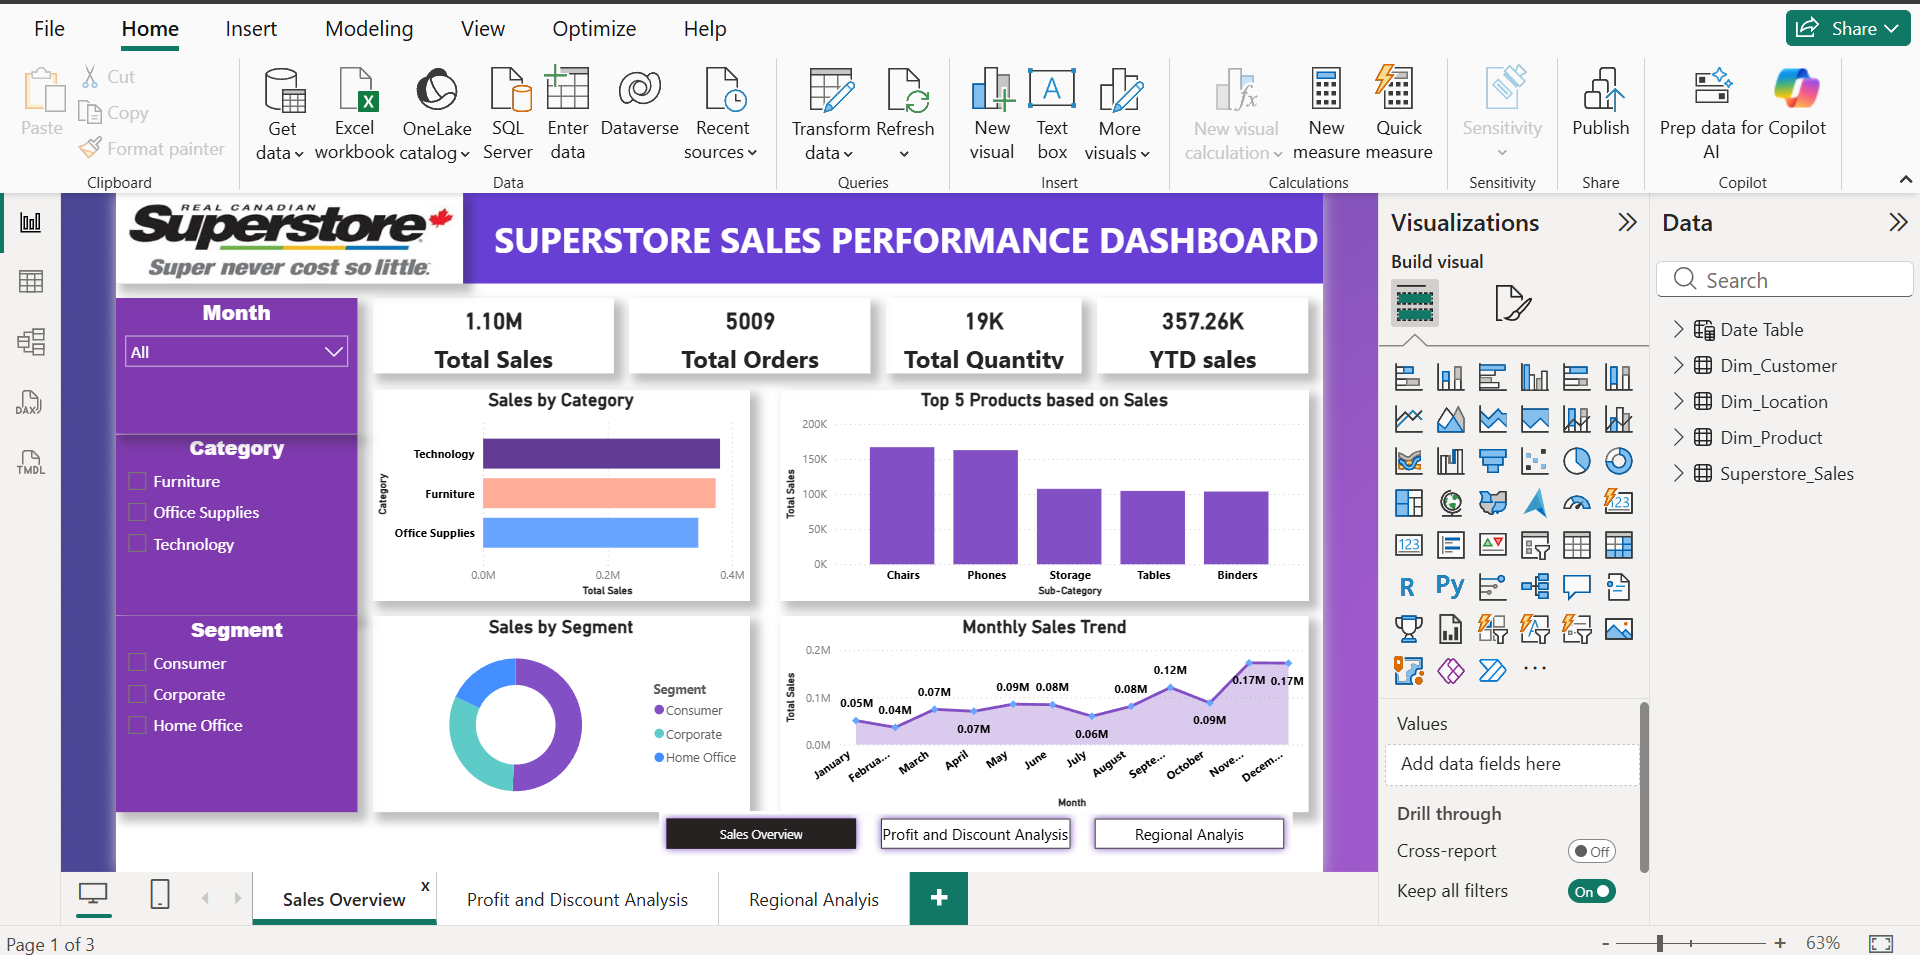

The page's visual inventory and layout, read from the dashboard file:
{"tool":"powerbi","page":{"name":"Sales Overview","canvas":[1280,720],"ordinal":0},"visuals":[{"type":"textbox","box":[0,0,1280,96],"z":0},{"type":"card","fields":{"Values":["SuperStore_Sales.Total Sales"]},"box":[272,112,256,80],"z":1000},{"type":"card","fields":{"Values":["SuperStore_Sales.Total Quantity"]},"box":[816,112,208,80],"z":2000},{"type":"barChart","title":"Sales by Category","fields":{"Y":["SuperStore_Sales.Total Sales"],"Category":["SuperStore_Sales.Category"]},"box":[272,208,400,224],"z":3000},{"type":"columnChart","title":"Top 5 Products based on Sales","fields":{"Category":["SuperStore_Sales.Sub-Category"],"Y":["SuperStore_Sales.Total Sales"]},"box":[704,208,560,224],"z":4000},{"type":"lineChart","title":" Monthly Sales Trend","fields":{"Y":["SuperStore_Sales.Total Sales"],"Category":["Date Table.Date.Variation.Date Hierarchy.Month1"]},"box":[704,448,560,208],"z":5000},{"type":"donutChart","title":"Sales by Segment","fields":{"Category":["SuperStore_Sales.Segment"],"Y":["SuperStore_Sales.Total Sales"]},"box":[272,448,400,208],"z":6000},{"type":"slicer","title":"Category","fields":{"Values":["SuperStore_Sales.Category"]},"box":[0,256,256,192],"z":7000},{"type":"slicer","title":"Month","fields":{"Values":["Date Table.MONTH"]},"box":[0,112,256,144],"z":8000},{"type":"pageNavigator","box":[576,656,672,48],"z":9000},{"type":"card","fields":{"Values":["SuperStore_Sales.YTD sales"]},"box":[1040,112,224,80],"z":10000},{"type":"image","box":[0,0,368,96],"z":11000},{"type":"slicer","title":"Segment","fields":{"Values":["SuperStore_Sales.Segment"]},"box":[0,448,256,208],"z":12000},{"type":"card","fields":{"Values":["SuperStore_Sales.Total Orders"]},"box":[544,112,256,80],"z":13000}]}

Visuals, with their boxes on the page's 1280x720 design canvas (x1, y1, x2, y2). These are canvas units, not pixel positions in the 1920x955 screenshot, which may show the page scaled, cropped or inside an application window:
textbox: bbox=(0, 0, 1280, 96)
card - SuperStore_Sales.Total Sales: bbox=(272, 112, 528, 192)
card - SuperStore_Sales.Total Quantity: bbox=(816, 112, 1024, 192)
"Sales by Category" barChart: bbox=(272, 208, 672, 432)
"Top 5 Products based on Sales" columnChart: bbox=(704, 208, 1264, 432)
" Monthly Sales Trend" lineChart: bbox=(704, 448, 1264, 656)
"Sales by Segment" donutChart: bbox=(272, 448, 672, 656)
"Category" slicer: bbox=(0, 256, 256, 448)
"Month" slicer: bbox=(0, 112, 256, 256)
pageNavigator: bbox=(576, 656, 1248, 704)
card - SuperStore_Sales.YTD sales: bbox=(1040, 112, 1264, 192)
image: bbox=(0, 0, 368, 96)
"Segment" slicer: bbox=(0, 448, 256, 656)
card - SuperStore_Sales.Total Orders: bbox=(544, 112, 800, 192)
